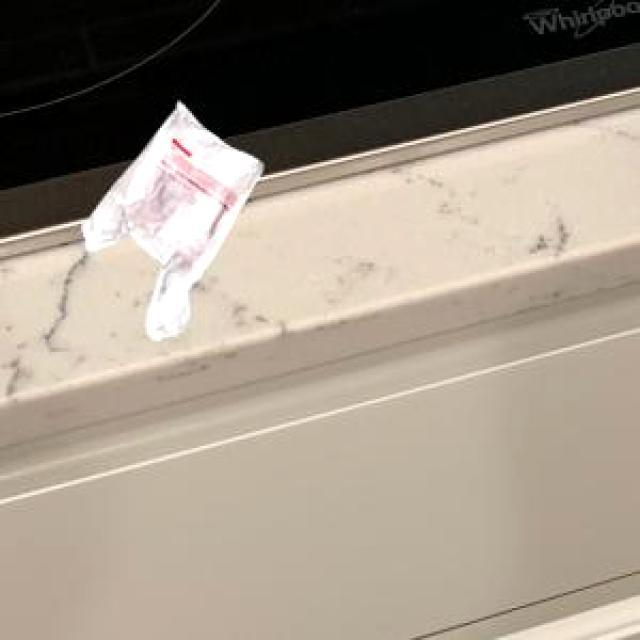Plastic_Bag: (78, 99, 262, 338)
